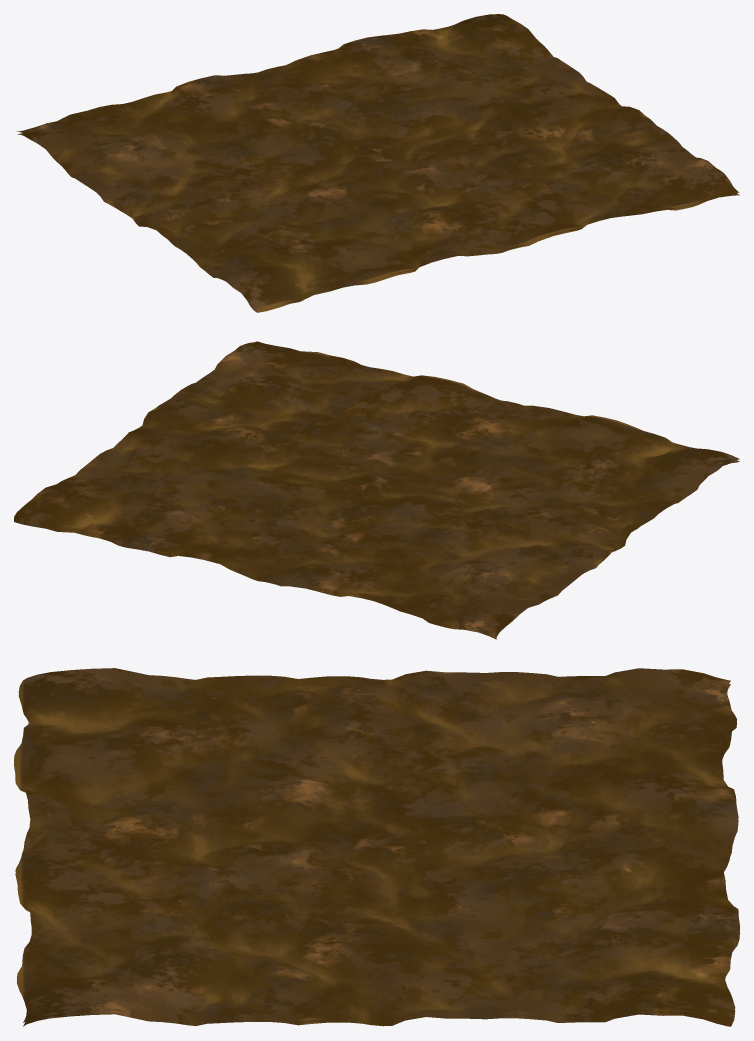
The model's file is Battle_Planet.fbx.
3 views of the same model, one above another, from view 1: azimuth 30°, elevation 25°; view 2: azimuth 150°, elevation 25°; view 3: azimuth 270°, elevation 25° (orthographic). The views are drawn at different scales.
Parts seen in each view (by area): view 1: Plane, Plane.002; view 2: Plane, Plane.002; view 3: Plane, Plane.002.
Boxes of the visible parts, x1,y1,x2,y2 form: Plane: (16, 14, 739, 310); Plane.002: (17, 133, 739, 312); Plane: (14, 341, 739, 636); Plane.002: (14, 460, 739, 639); Plane: (14, 668, 739, 1023); Plane.002: (14, 684, 739, 1026).
Bounding box in the file's own units: 11864 × 307 × 10421.
